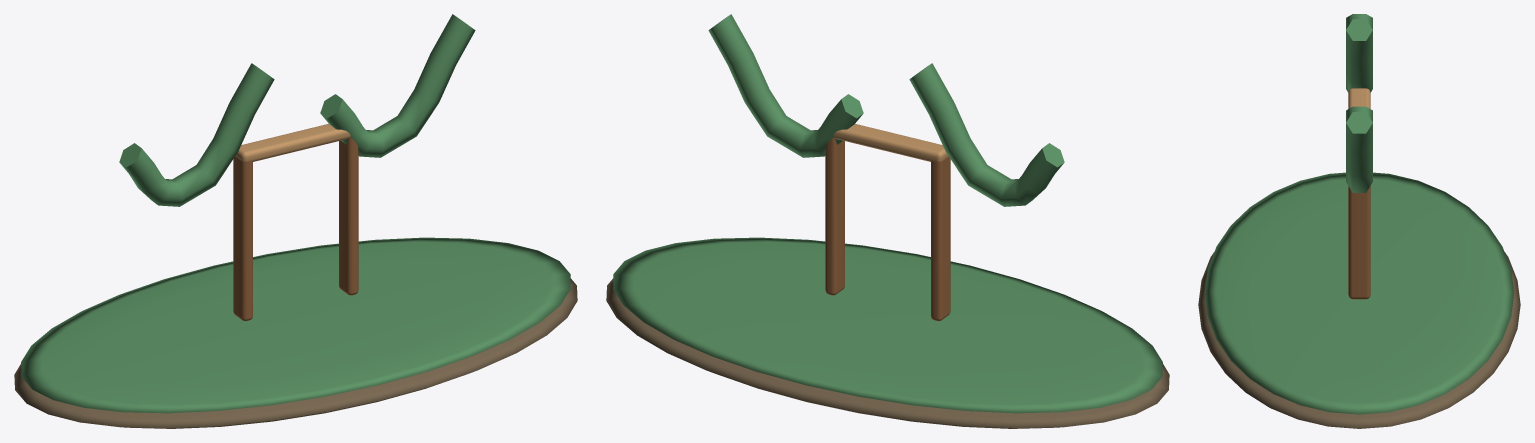
Rendered from complete-second-consent-permission.glb.
3 renders of one model, left to right at view 1: azimuth 30°, elevation 25°; view 2: azimuth 150°, elevation 25°; view 3: azimuth 270°, elevation 25°, orthographic. The views are drawn at different scales.
Parts seen in each view (by area): view 1: complete-second-consent-permission_surface_01, complete-second-consent-permission_surface_00, complete-second-consent-permission_surface_02, complete-second-consent-permission_surface_03; view 2: complete-second-consent-permission_surface_01, complete-second-consent-permission_surface_00, complete-second-consent-permission_surface_02, complete-second-consent-permission_surface_03; view 3: complete-second-consent-permission_surface_01, complete-second-consent-permission_surface_00, complete-second-consent-permission_surface_02, complete-second-consent-permission_surface_03.
Part boxes in pixels (x1,y1,x2,y2): complete-second-consent-permission_surface_01: [21, 14, 570, 413]; complete-second-consent-permission_surface_00: [14, 278, 577, 428]; complete-second-consent-permission_surface_02: [233, 137, 358, 321]; complete-second-consent-permission_surface_03: [235, 124, 350, 161]; complete-second-consent-permission_surface_01: [613, 14, 1162, 413]; complete-second-consent-permission_surface_00: [606, 278, 1169, 428]; complete-second-consent-permission_surface_02: [825, 137, 950, 321]; complete-second-consent-permission_surface_03: [833, 124, 948, 161]; complete-second-consent-permission_surface_01: [1204, 14, 1514, 414]; complete-second-consent-permission_surface_00: [1198, 252, 1520, 428]; complete-second-consent-permission_surface_02: [1348, 186, 1370, 299]; complete-second-consent-permission_surface_03: [1348, 88, 1370, 108].
Size of the model in its own units: 4.56 by 2.41 by 2.5.
